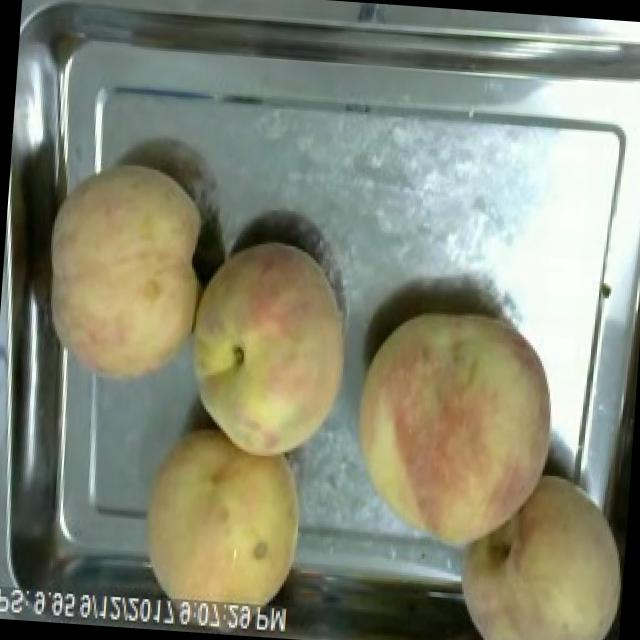Fruit: (336, 292, 574, 563), (27, 152, 216, 396), (180, 227, 366, 468), (128, 414, 314, 632), (443, 456, 630, 640)
